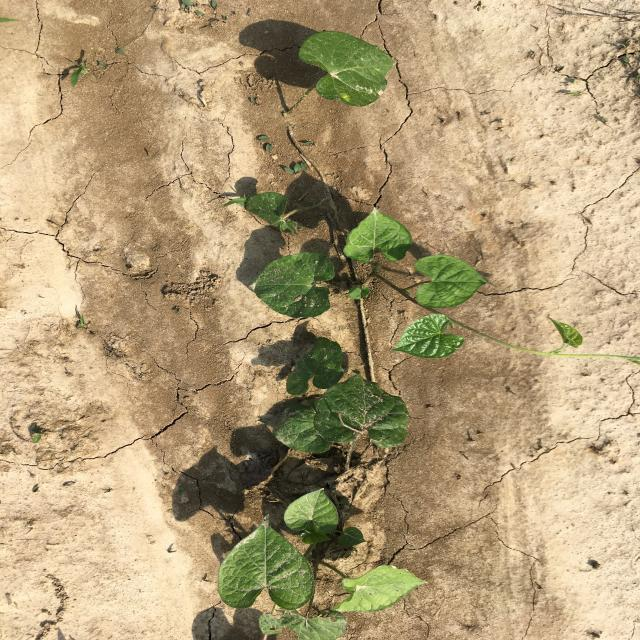MorningGlory: (217, 126, 639, 638), (283, 30, 395, 115)
